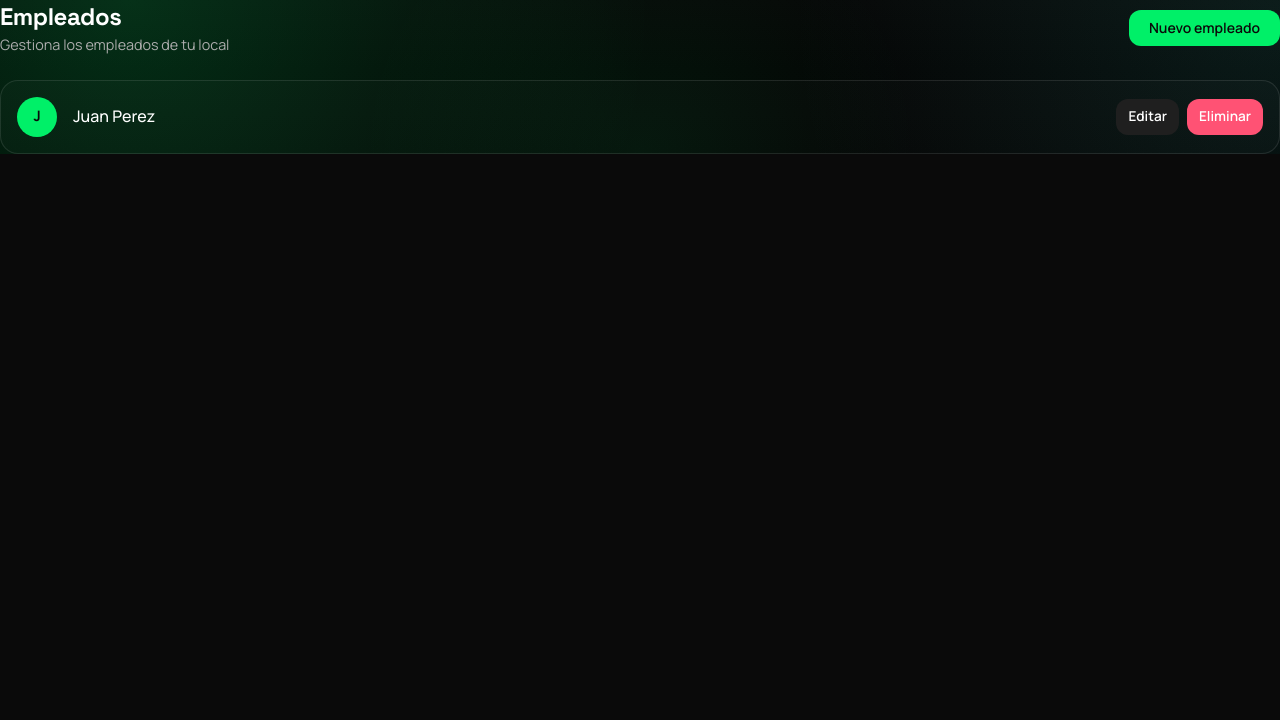
EmployeesPage › opens confirm dialog on delete click
The width and height of the screenshot is (1280, 720).
Click the button "Eliminar": (1225, 117) [1187,99,1263,135]
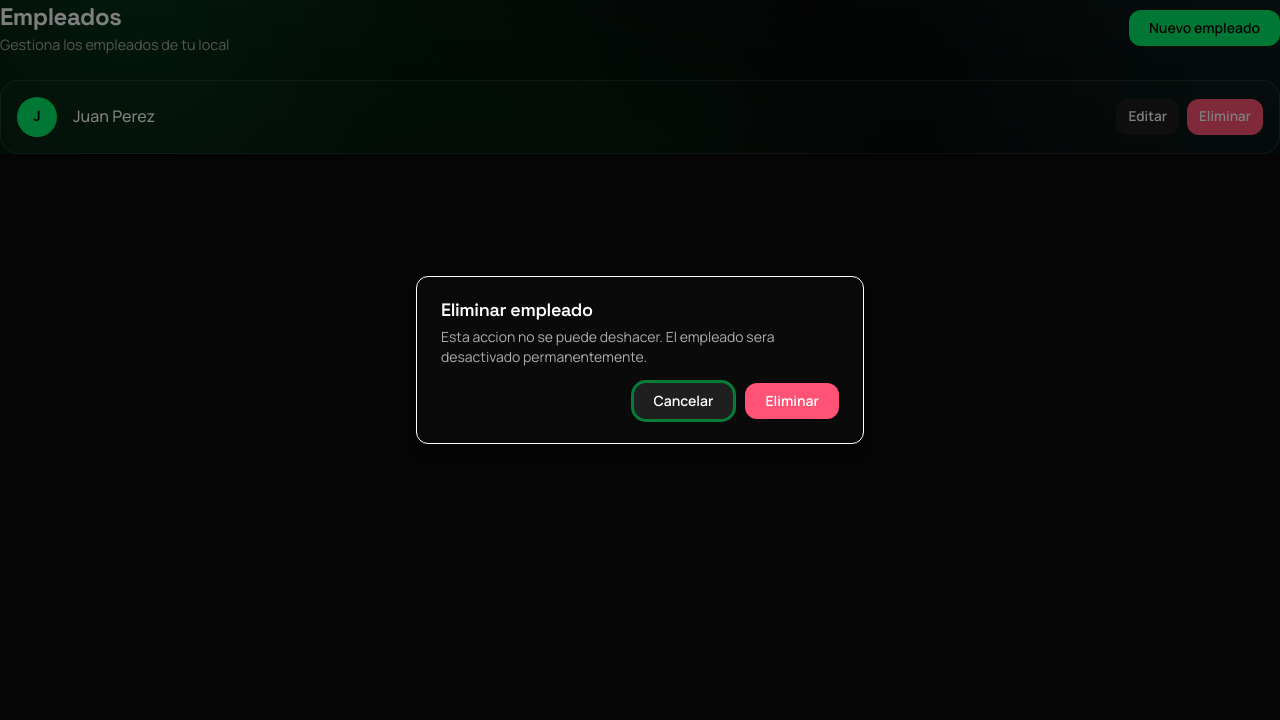
Now the heading "Eliminar empleado" is shown, box [441,298,593,321]
Now the text "Esta accion no se puede deshacer" is shown, box [441,327,774,366]
